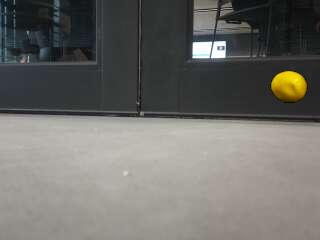Lemon: (270, 71, 308, 102)
